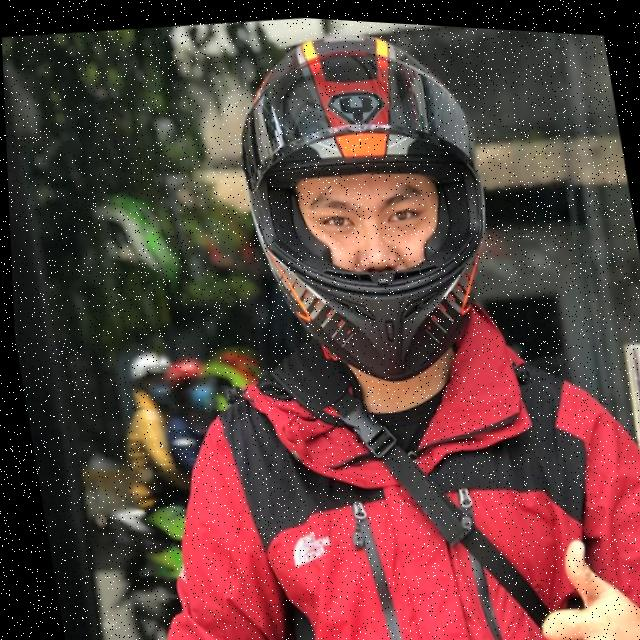helmet: (213, 10, 517, 402)
